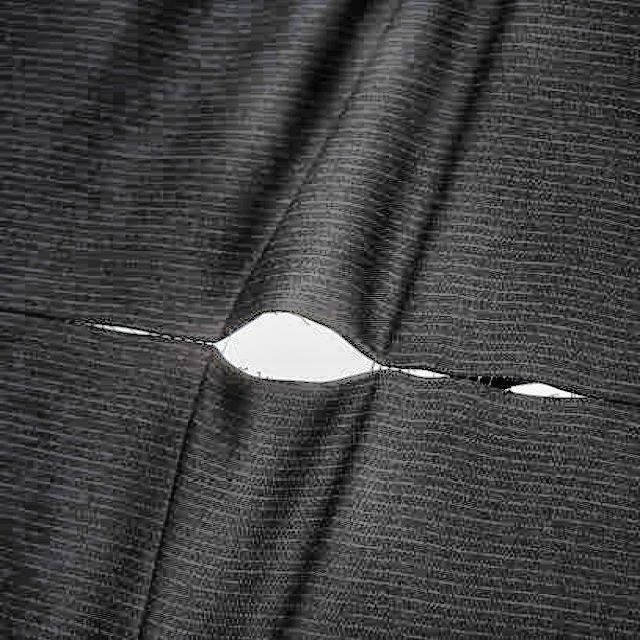cut: (93, 279, 618, 439)
